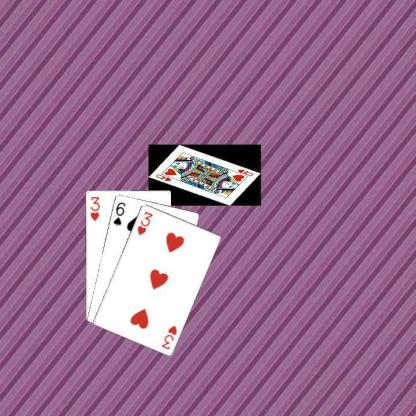3H: (159, 322, 178, 351), (134, 209, 154, 236), (88, 194, 100, 222)
6S: (110, 199, 126, 227)
